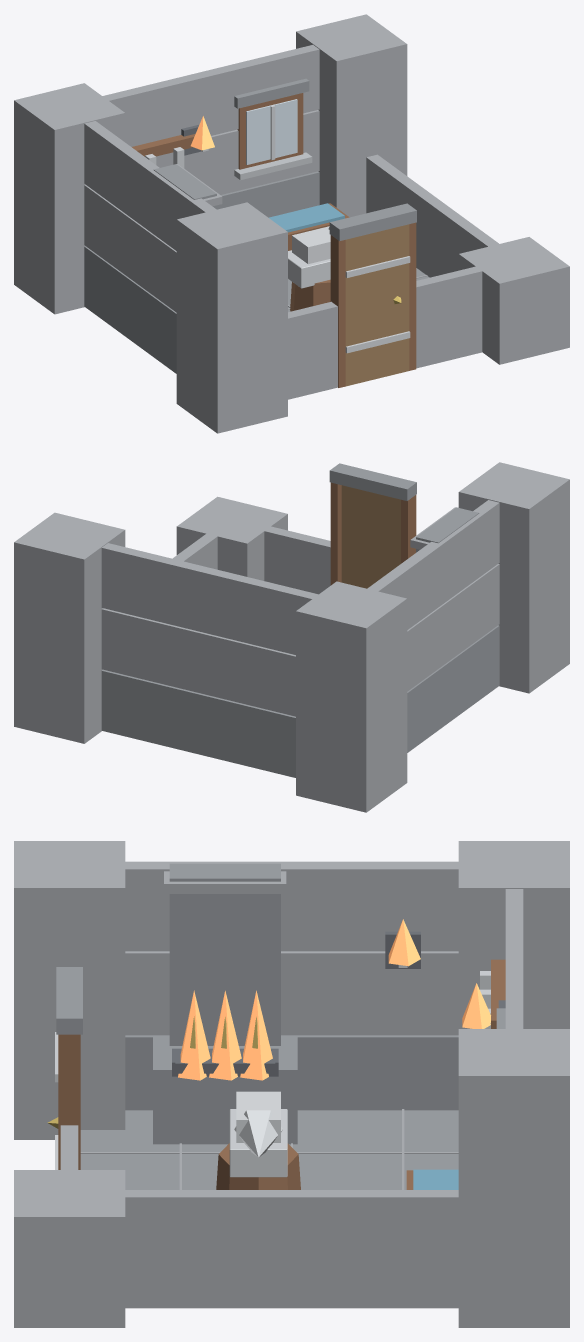
File: smithy_interior.glb
3 views of the same model, one above another, from view 1: azimuth 30°, elevation 25°; view 2: azimuth 150°, elevation 25°; view 3: azimuth 270°, elevation 25° (orthographic). The views are drawn at different scales.
Parts seen in each view (by area): view 1: floor_slab.001; view 2: floor_slab.001; view 3: floor_slab.001.
Part boxes in pixels (x1,y1,x2,y2): floor_slab.001: [14, 14, 569, 433]; floor_slab.001: [14, 462, 569, 812]; floor_slab.001: [14, 841, 569, 1327].
Bounding box in the file's own units: 5 × 2.5 × 5.
